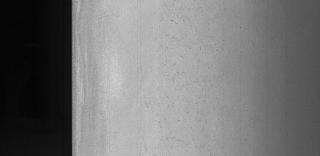silk spot: (150, 0, 228, 134)
